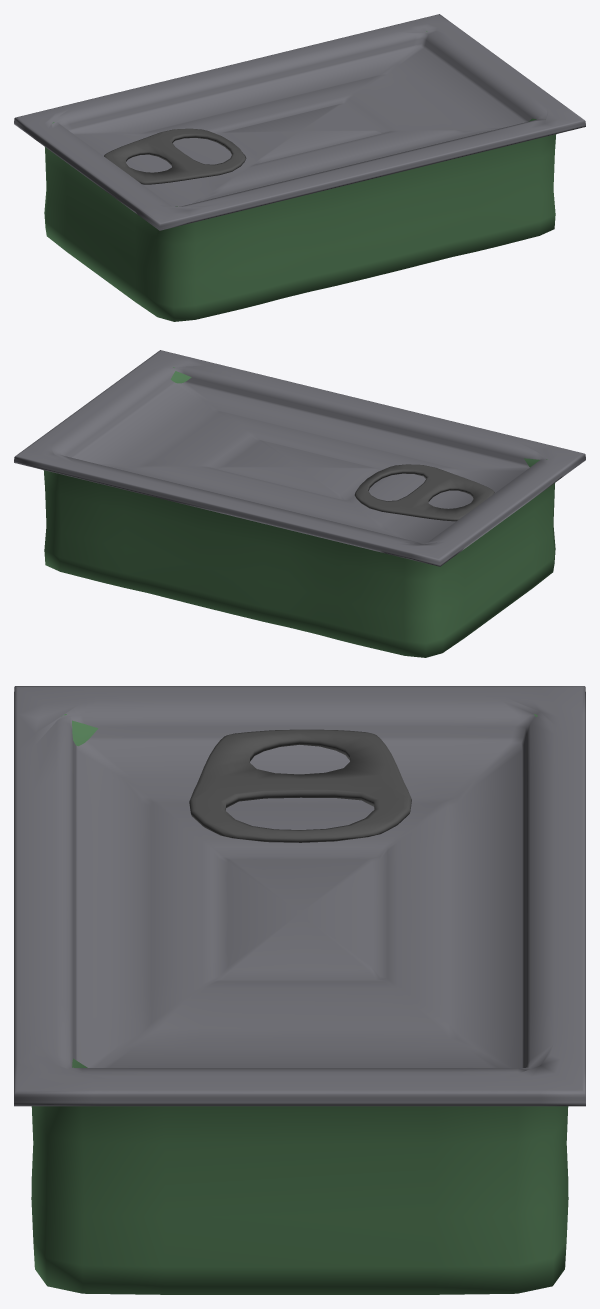
Rendered from LataVerdefbx.fbx.
3 renders of one model, top to bottom at view 1: azimuth 30°, elevation 25°; view 2: azimuth 150°, elevation 25°; view 3: azimuth 270°, elevation 25°, orthographic. The views are drawn at different scales.
Visible parts, largest first — view 1: Tampa3.retopo, Lata3.retopo; view 2: Tampa3.retopo, Lata3.retopo; view 3: Tampa3.retopo, Lata3.retopo.
Boxes of the visible parts, x1=… form: Tampa3.retopo: x1=14, y1=14, x2=585, y2=230; Lata3.retopo: x1=44, y1=31, x2=556, y2=321; Tampa3.retopo: x1=14, y1=350, x2=585, y2=566; Lata3.retopo: x1=43, y1=367, x2=555, y2=657; Tampa3.retopo: x1=14, y1=686, x2=585, y2=1106; Lata3.retopo: x1=31, y1=714, x2=568, y2=1294.
Bounding box in the file's own units: 150 × 38.05 × 88.92.
